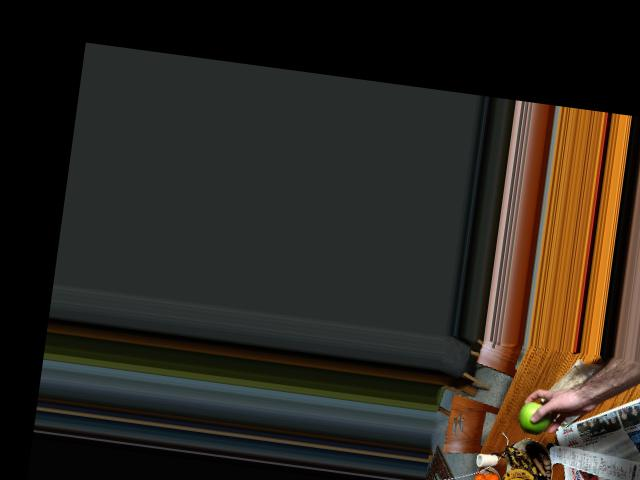apple: (516, 399, 555, 436)
